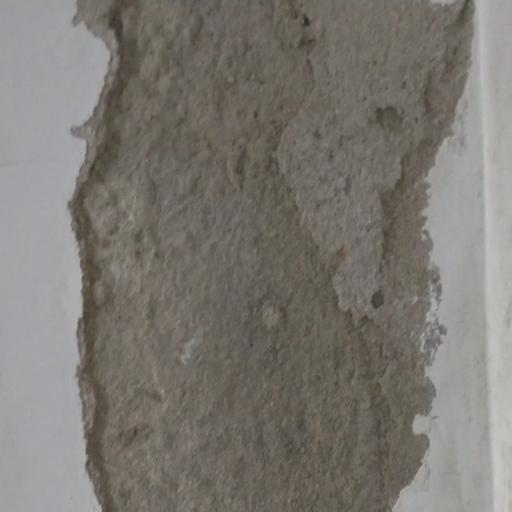spalling: (61, 0, 476, 512)
